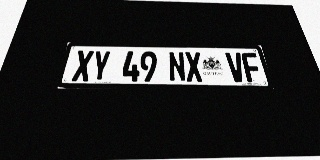4: (122, 51, 140, 82)
9: (140, 51, 157, 82)
F: (241, 53, 263, 82)
N: (168, 52, 186, 82)
V: (225, 52, 247, 82)
X: (71, 50, 94, 81), (184, 52, 203, 82)
Y: (90, 51, 111, 81)
